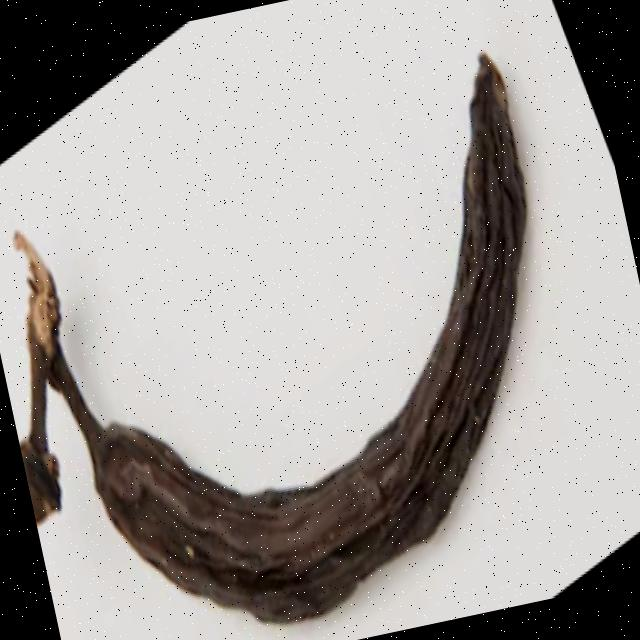Rotten: (0, 14, 619, 640)
